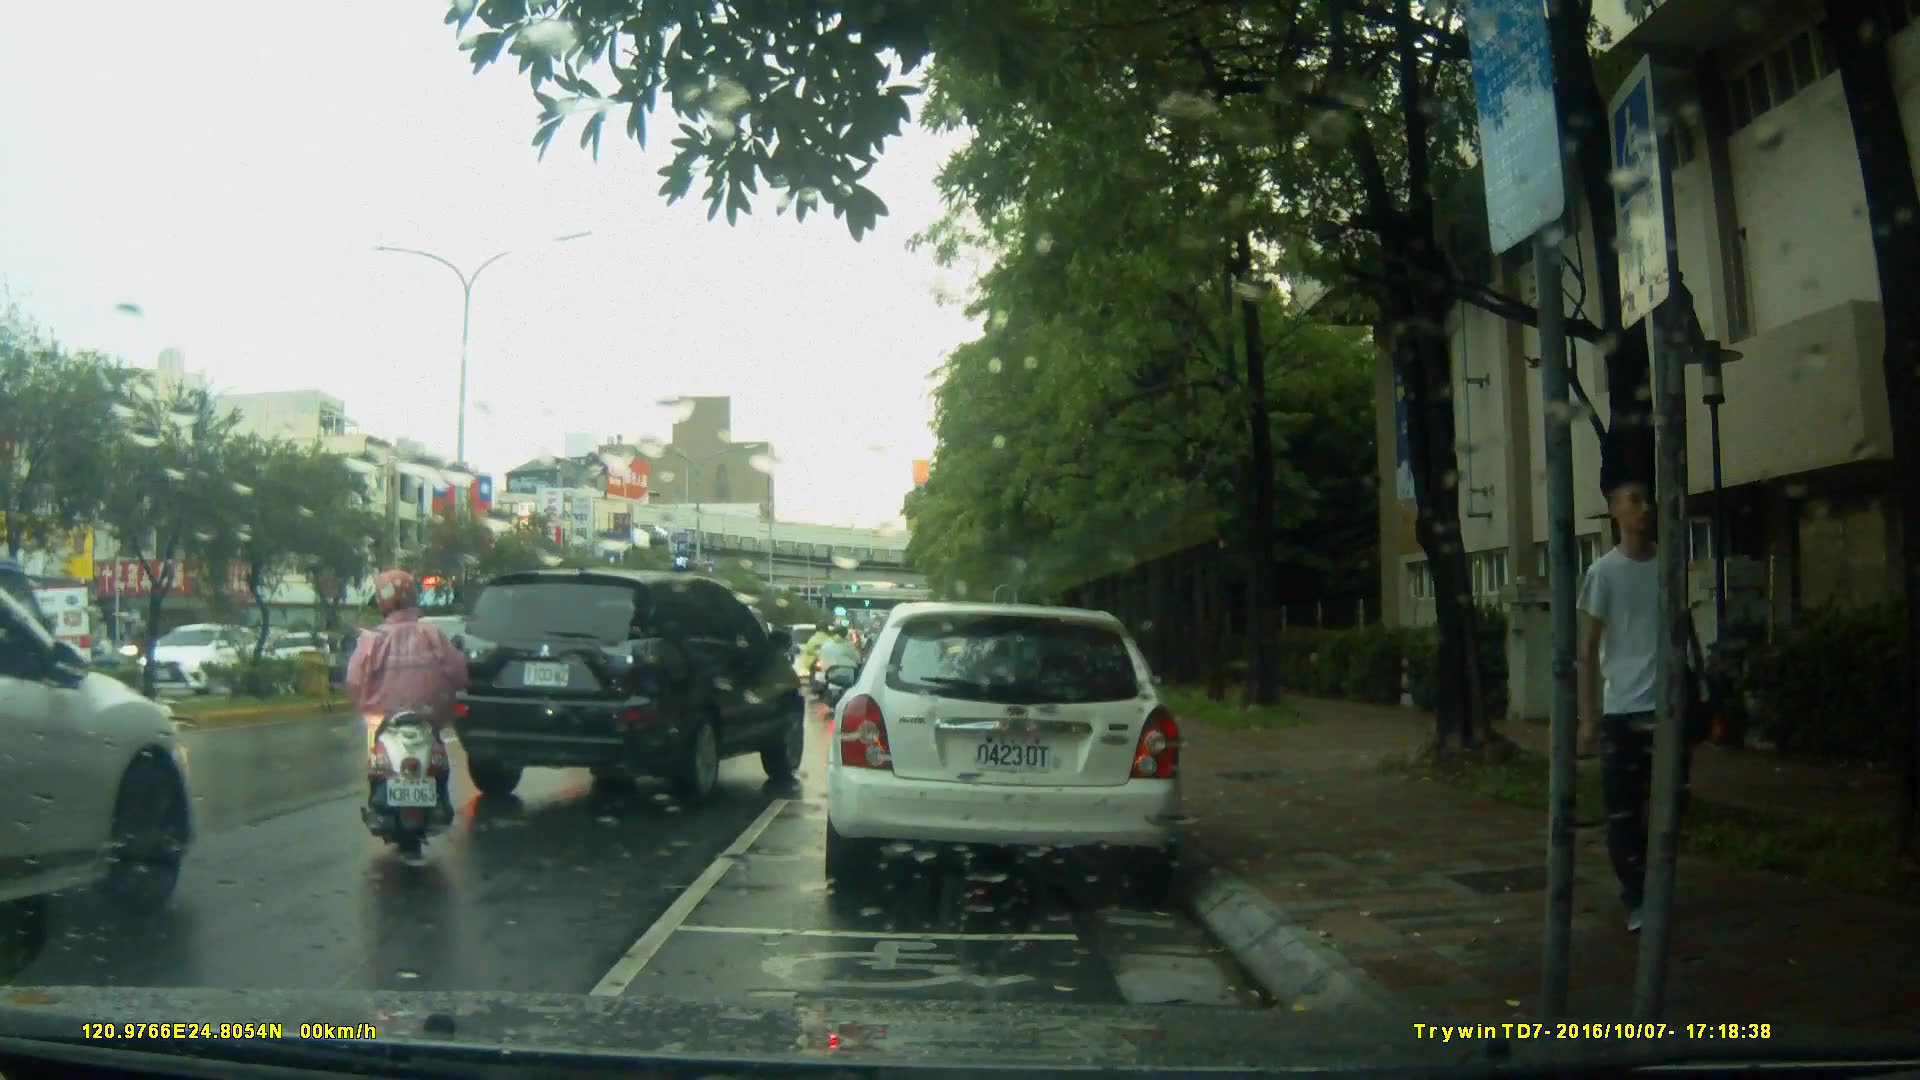pedestrian: (1574, 459, 1719, 951)
rider: (343, 564, 473, 856), (815, 621, 869, 719), (802, 626, 839, 698)
vehicle: (820, 602, 1188, 898), (2, 515, 203, 956), (446, 567, 812, 806), (143, 622, 265, 703)
